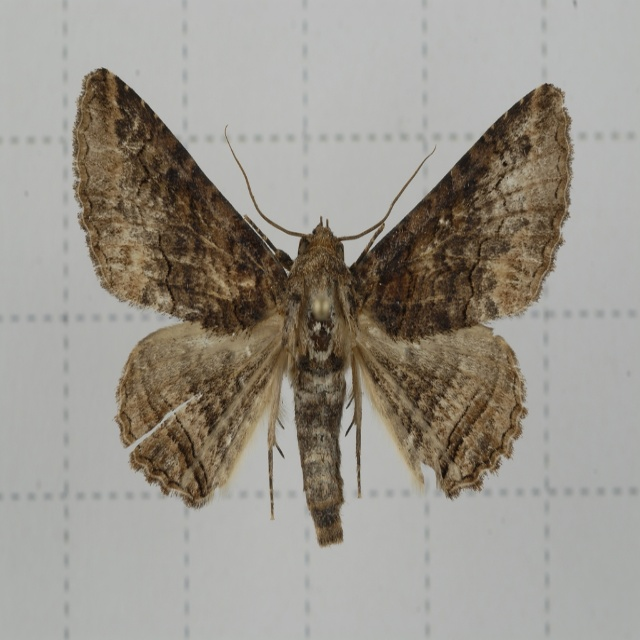Butterfly: (80, 64, 559, 557)
